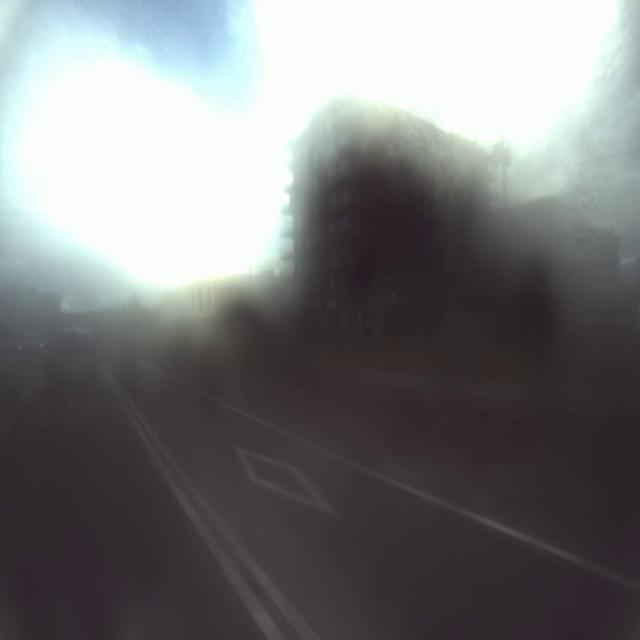car: (38, 318, 103, 397)
